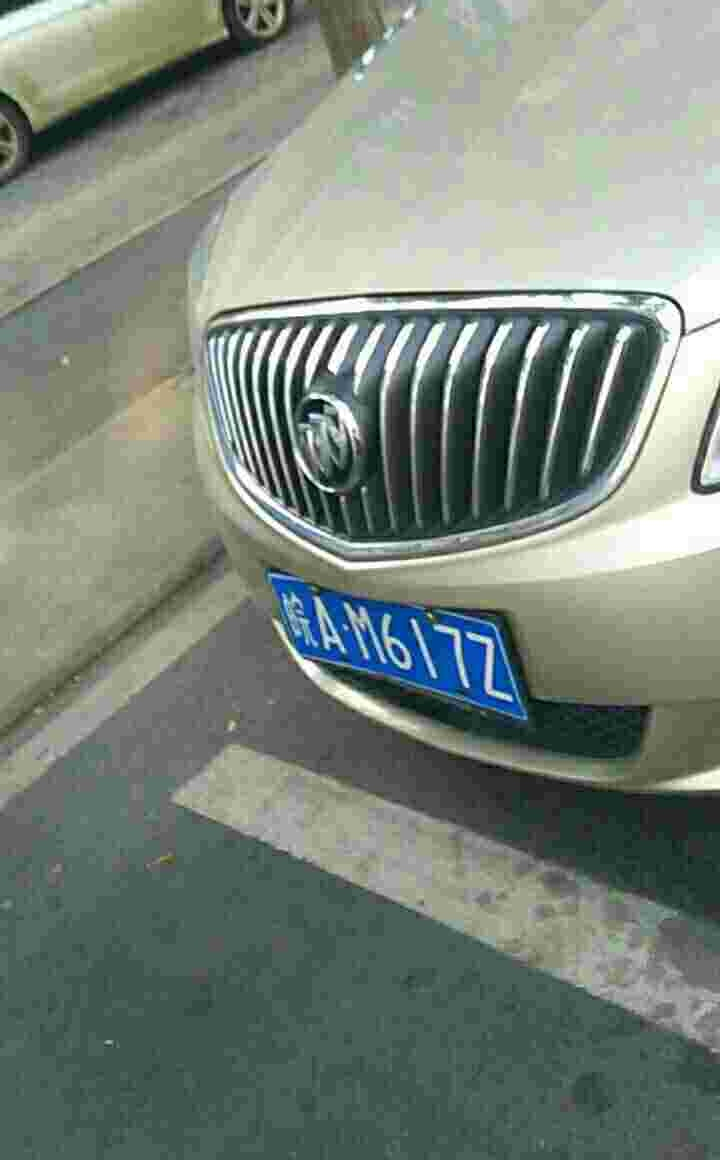license_plate: (271, 580, 523, 713)
